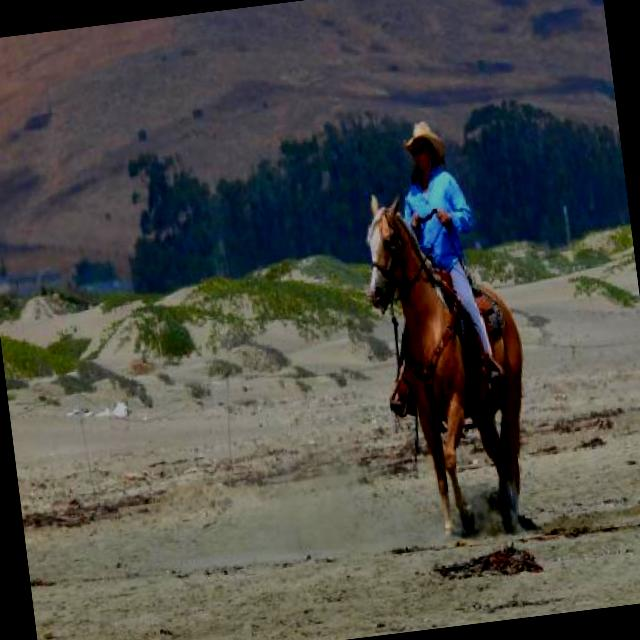Person: (358, 116, 506, 417)
